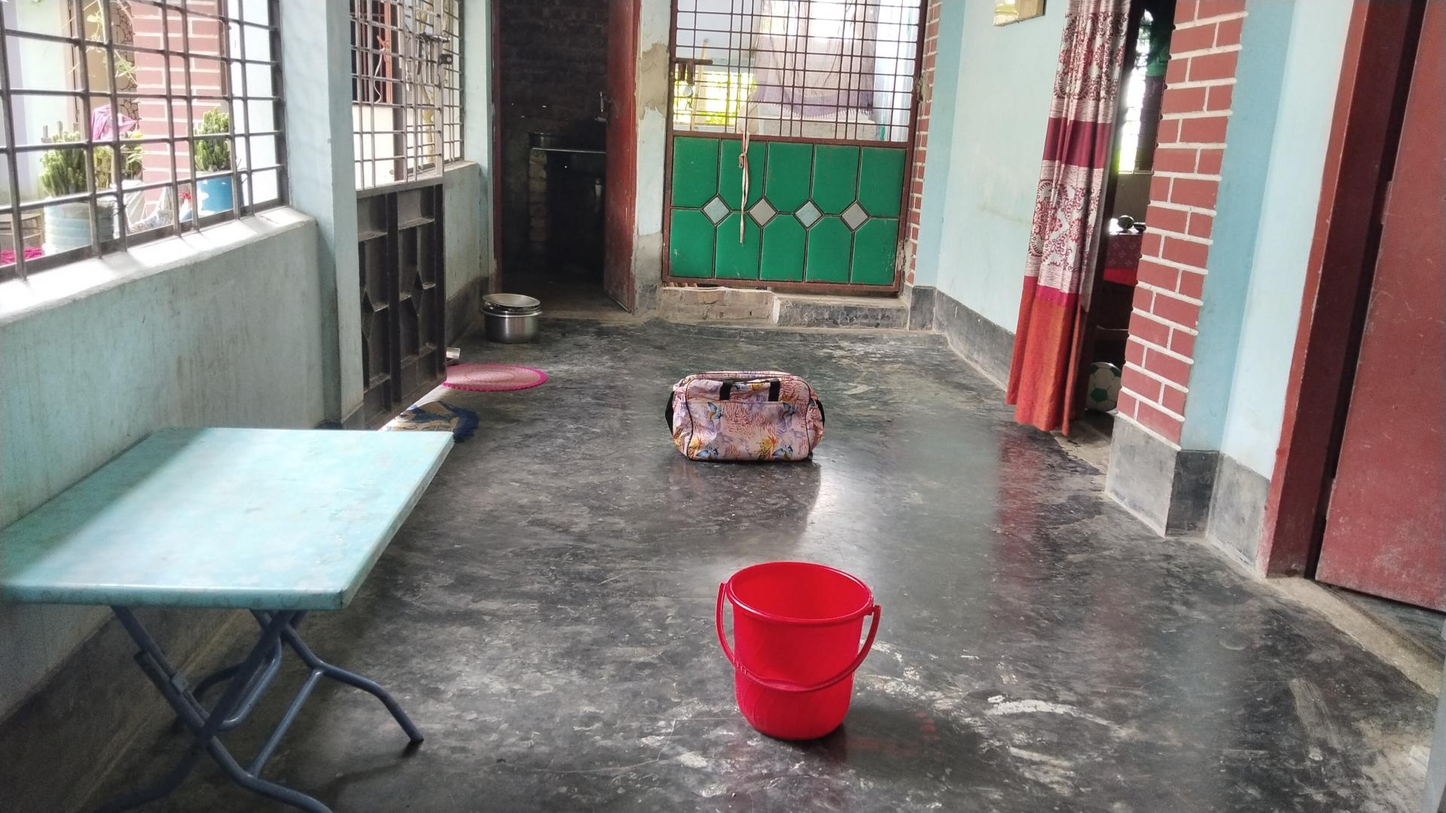Bag: (669, 365, 828, 466)
Bucket: (720, 569, 873, 735)
Door: (672, 3, 913, 297), (497, 2, 639, 319)
Floor Mat: (439, 361, 551, 397)
Plant: (41, 127, 120, 252), (185, 114, 250, 212)
Table: (0, 418, 466, 813)
